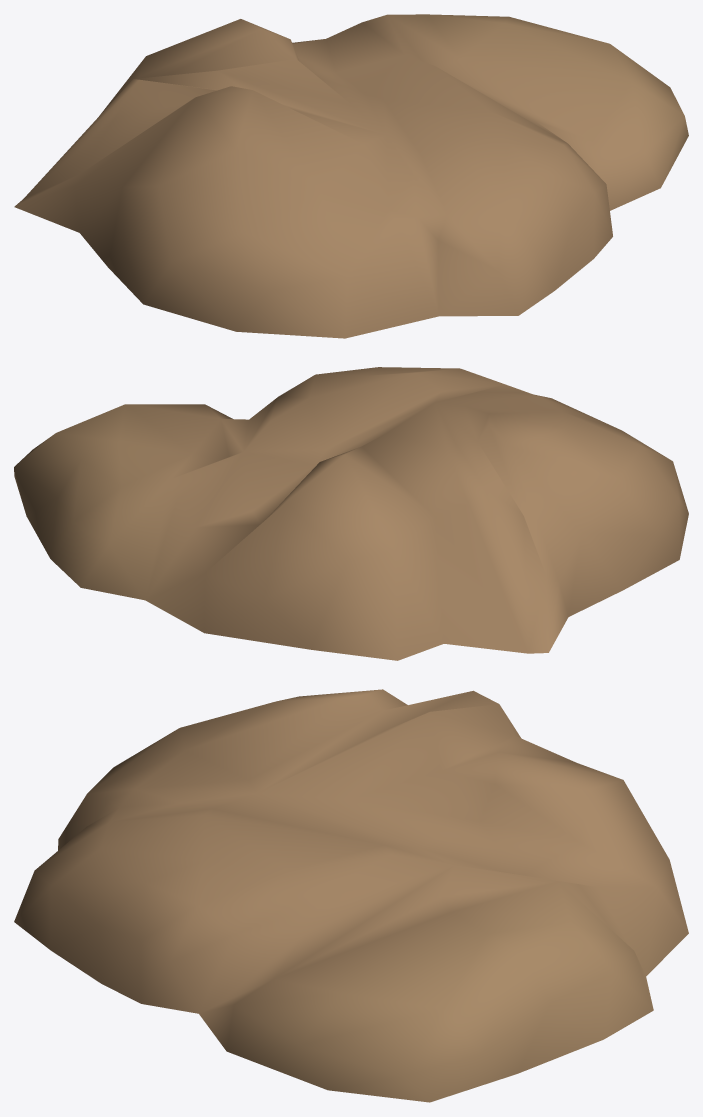
The model's file is SandPatchBig_01.glb.
3 views of the same model, one above another, from view 1: azimuth 30°, elevation 25°; view 2: azimuth 150°, elevation 25°; view 3: azimuth 270°, elevation 25° (orthographic). The views are drawn at different scales.
Visible parts, largest first — view 1: SandPatchBig_01; view 2: SandPatchBig_01; view 3: SandPatchBig_01.
Boxes of the visible parts, x1,y1,x2,y2 form: SandPatchBig_01: [14, 14, 688, 338]; SandPatchBig_01: [14, 367, 688, 660]; SandPatchBig_01: [14, 689, 688, 1102].
Size of what is drawn, in the model's own units: 4.03 by 0.9307 by 3.53.
Materials: 1 (1 with a texture image).
